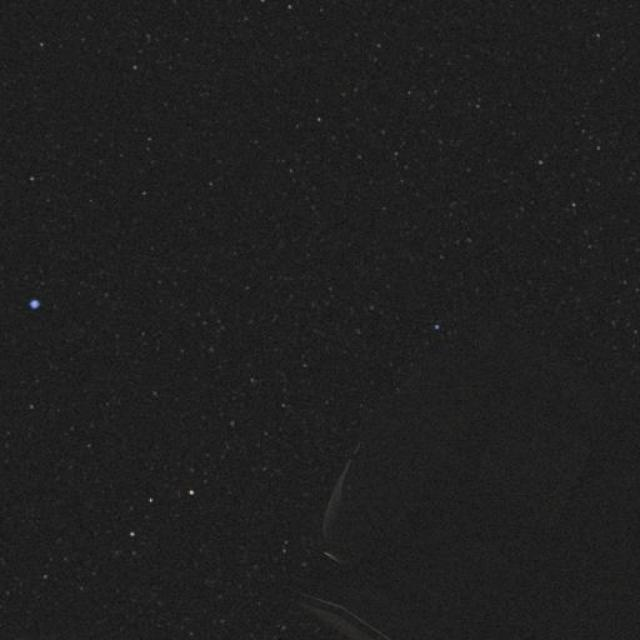cheops: (272, 391, 618, 582)
